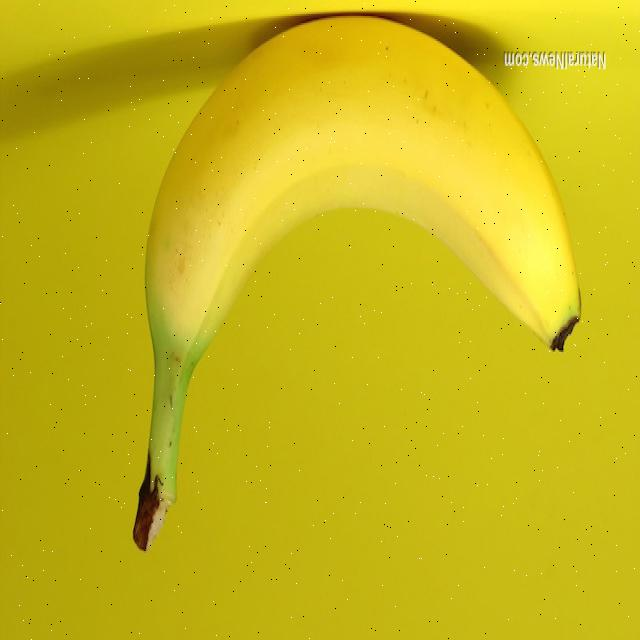Pisang: (133, 14, 582, 554)
